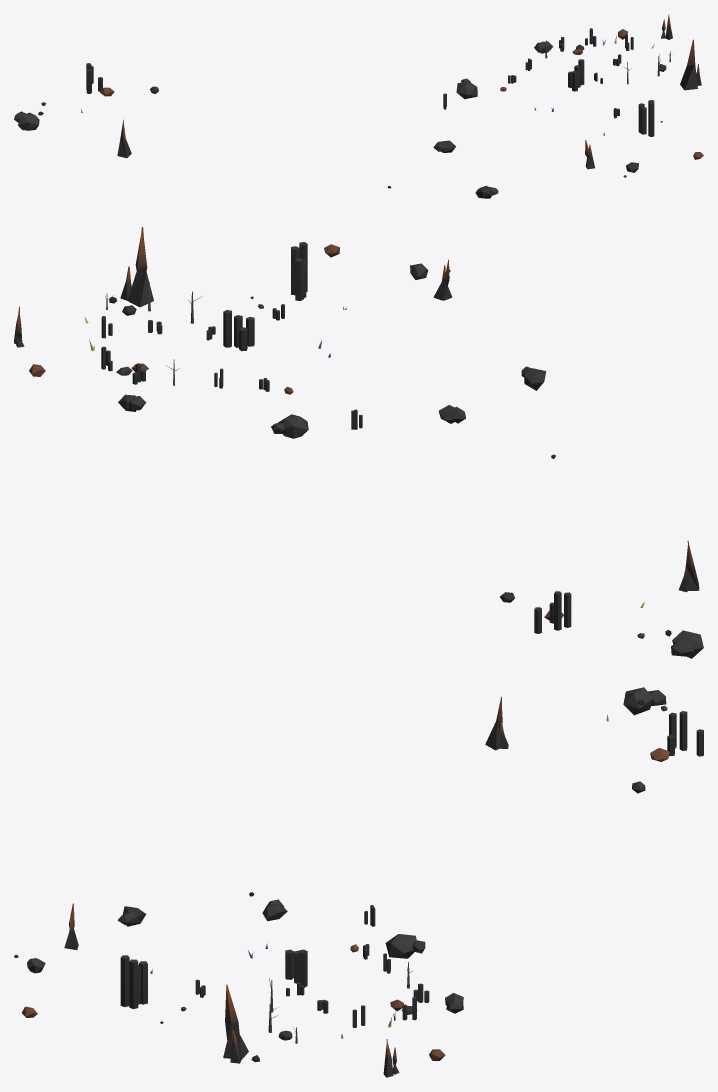
Rendered from ash_land_scatter_c22_31_lod1.glb.
3 views of the same model, one above another, from view 1: azimuth 30°, elevation 25°; view 2: azimuth 150°, elevation 25°; view 3: azimuth 270°, elevation 25° (orthographic). The views are drawn at different scales.
Visible parts, largest first — view 1: ash_land_scatter_c22_31_lod1; view 2: ash_land_scatter_c22_31_lod1; view 3: ash_land_scatter_c22_31_lod1.
Part boxes in pixels (x1,y1,x2,y2): ash_land_scatter_c22_31_lod1: [14, 14, 703, 198]; ash_land_scatter_c22_31_lod1: [14, 227, 703, 658]; ash_land_scatter_c22_31_lod1: [14, 687, 703, 1077].
Size of the model in its own units: 188 by 26.25 by 136.
